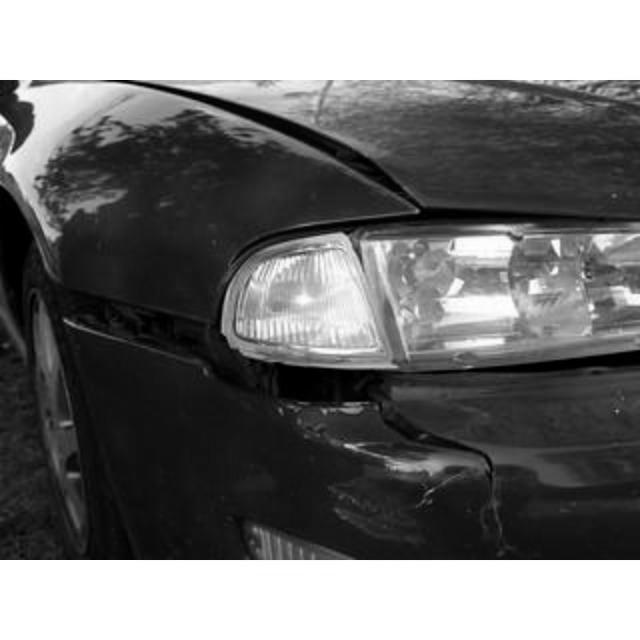fender-dent: (2, 80, 332, 386)
front-bumper-dent: (216, 338, 636, 558)
